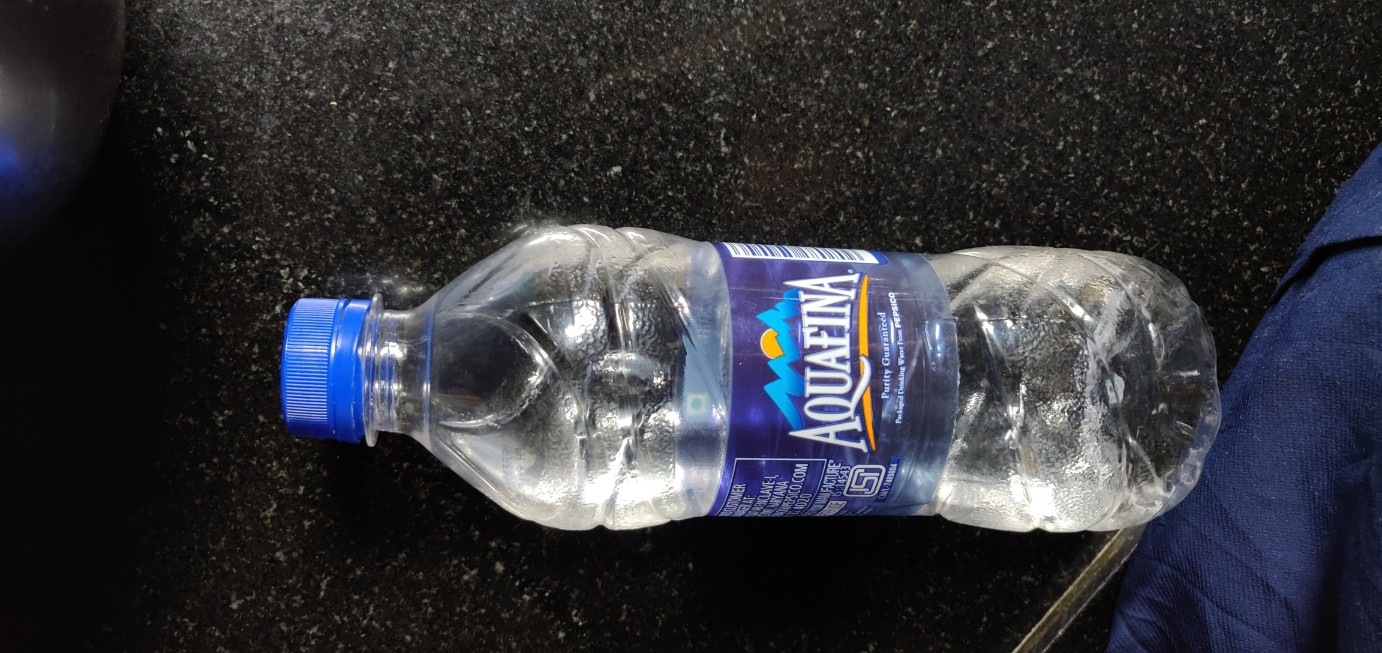Electronics: (265, 202, 1231, 551)
